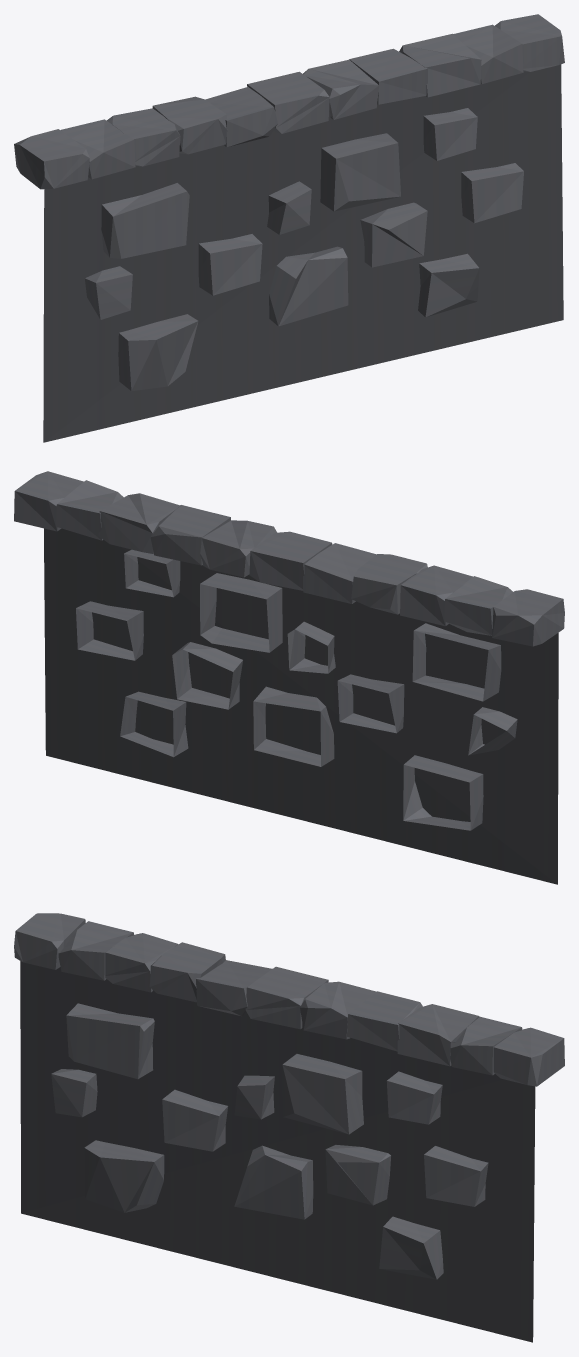
The model's file is Wall_2B_LOD1.fbx.
3 renders of one model, top to bottom at view 1: azimuth 30°, elevation 25°; view 2: azimuth 150°, elevation 25°; view 3: azimuth 330°, elevation 25°, orthographic.
Parts seen in each view (by area): view 1: polySurface10176; view 2: polySurface10176; view 3: polySurface10176.
Boxes of the visible parts, x1=… form: polySurface10176: x1=14, y1=14, x2=564, y2=442; polySurface10176: x1=14, y1=471, x2=564, y2=884; polySurface10176: x1=14, y1=913, x2=564, y2=1342.
Size of the model in its own units: 812 by 424 by 119.
